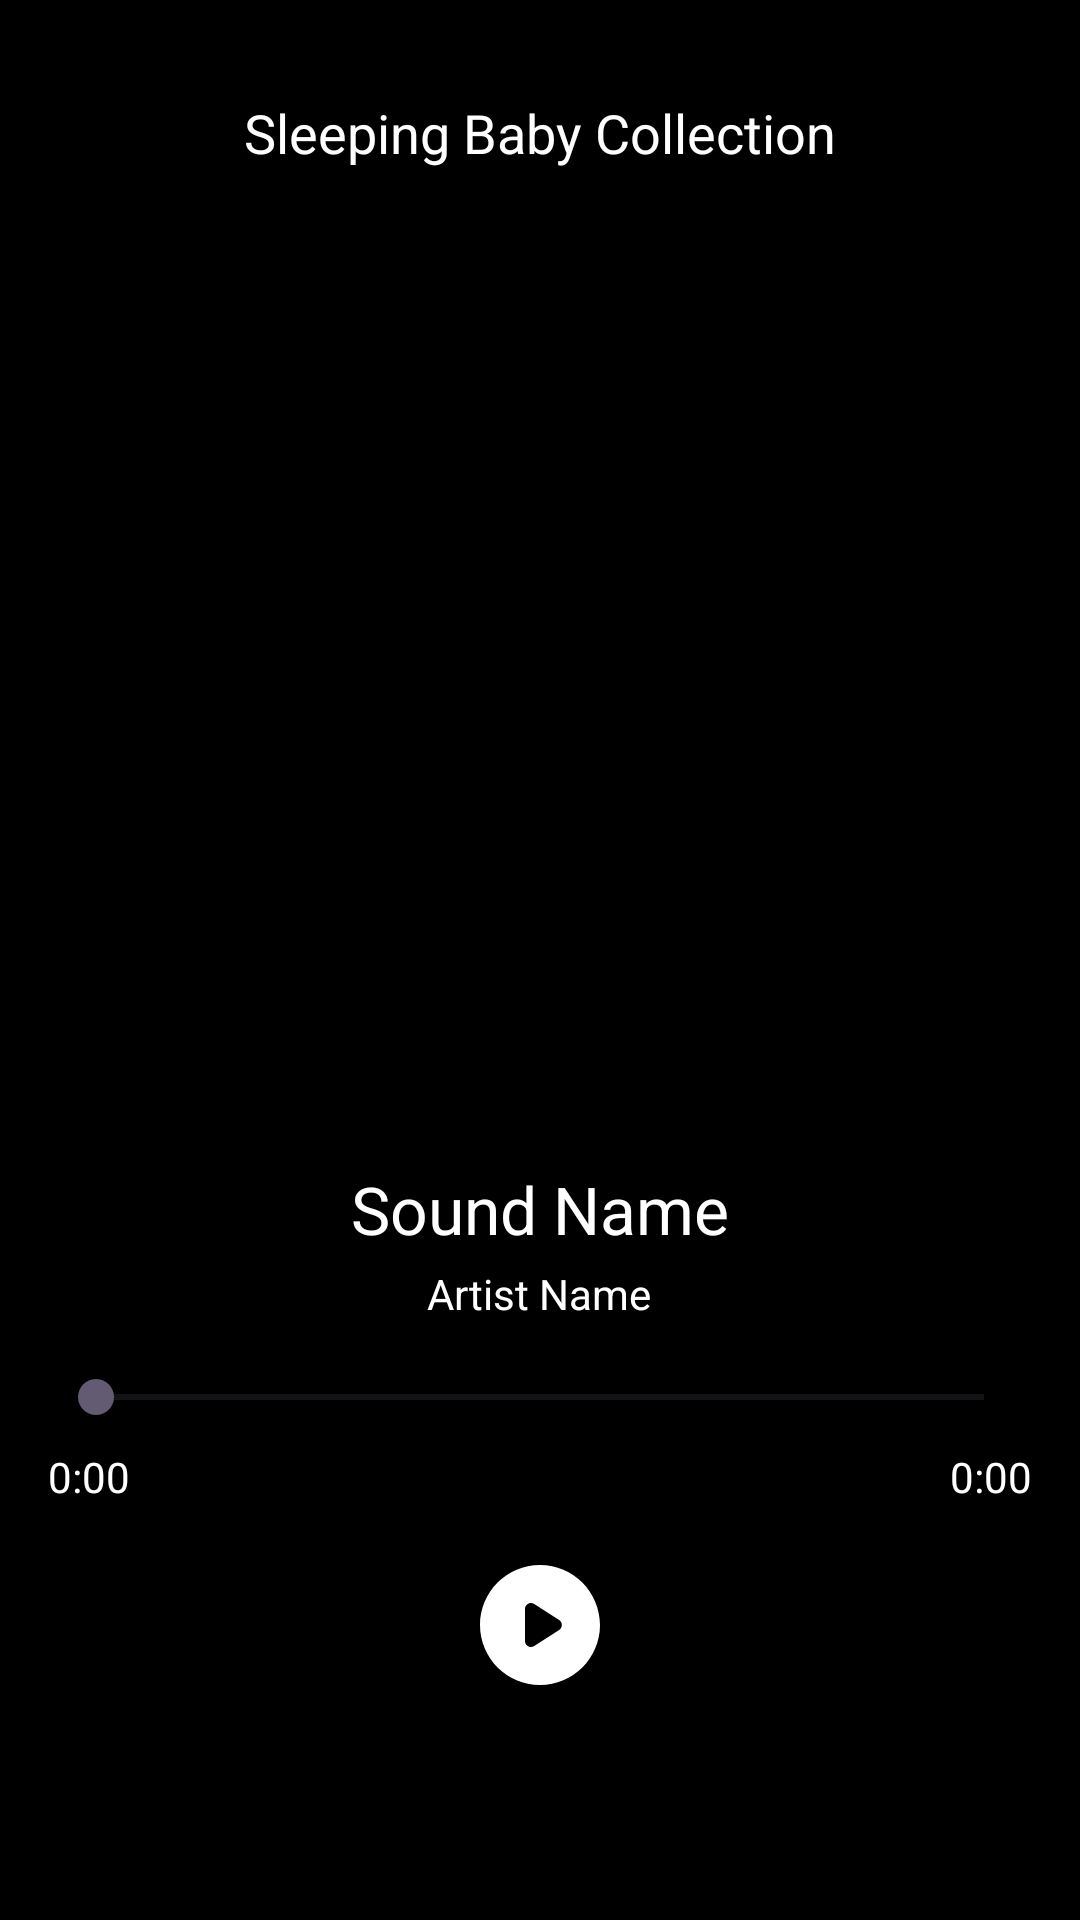

Icons on this 1080px x 1920px Android screen, each with its box as BBox(x1, y1, x2, y2):
Play: BBox(480, 1565, 600, 1685)
